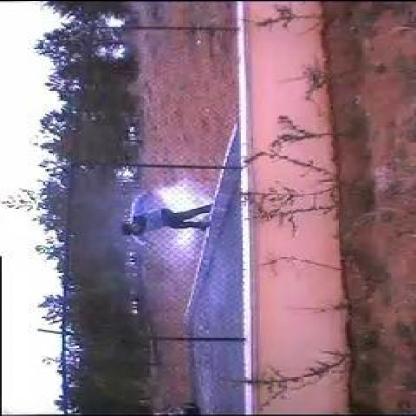-: (158, 178, 204, 242)
